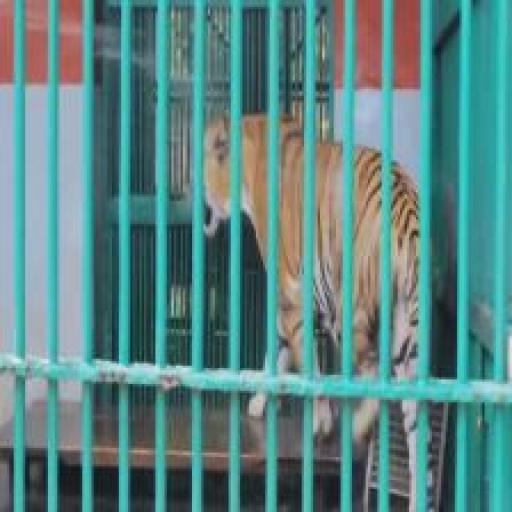Tiger: (174, 82, 467, 489)
